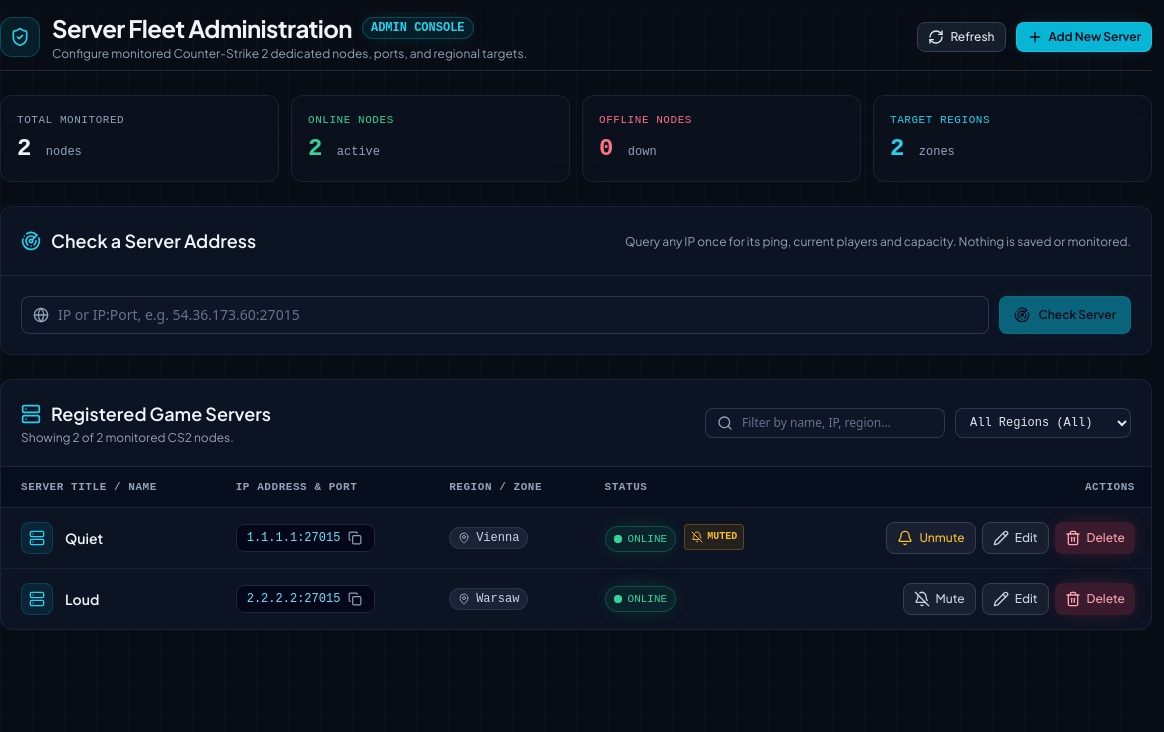
Test case: AdminDashboardView › says so when the address does not answer
Type "9.9.9.9" into the field named "Server address to check". click: (505, 314)
box: [21,296,990,334]
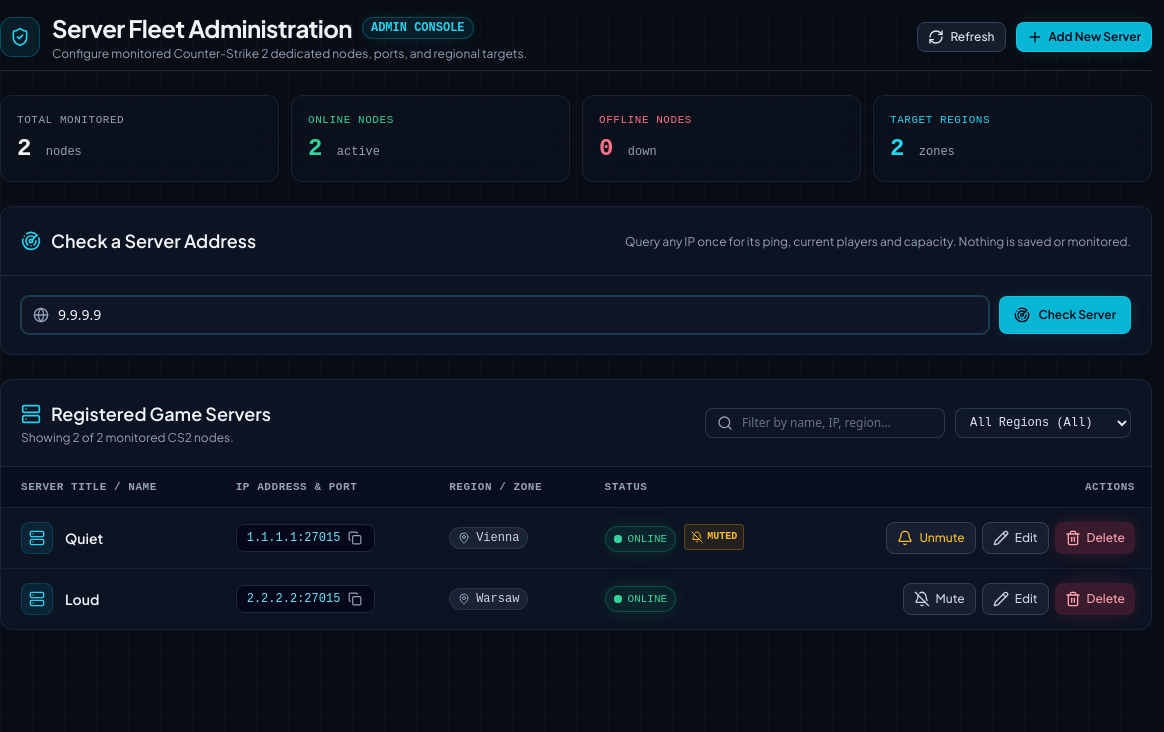
Click the button "Check Server". click: (1065, 314)
box: [1000,296,1131,334]
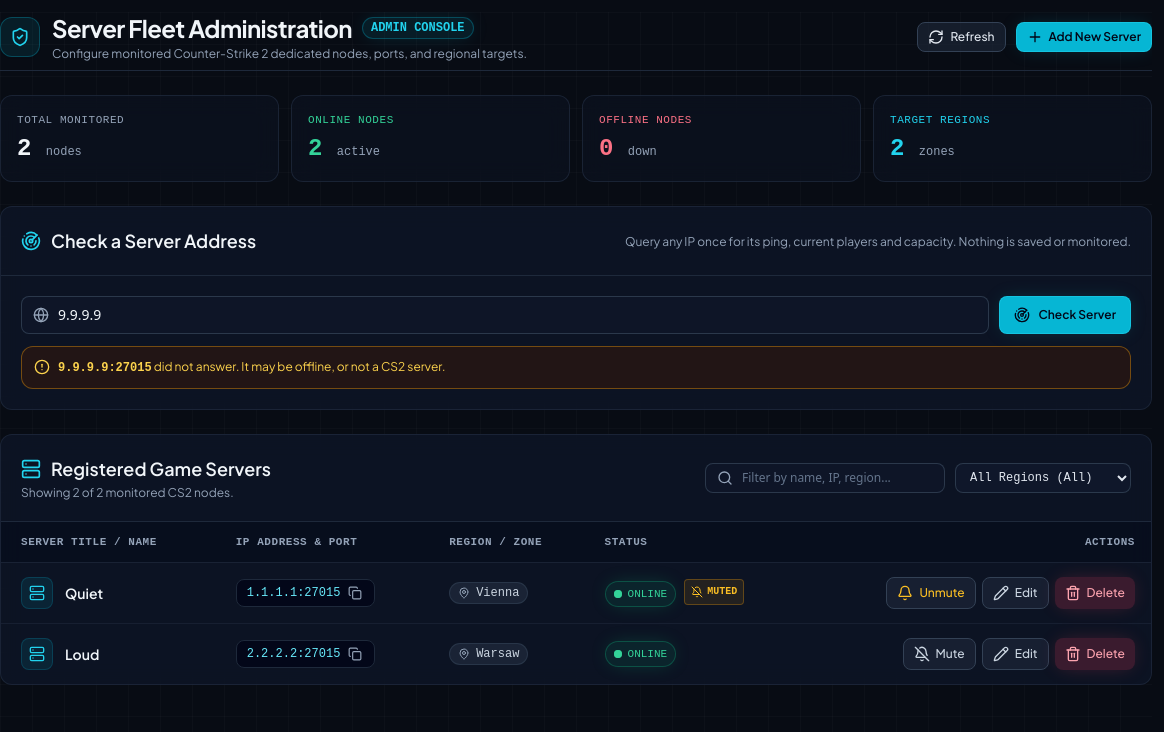
expect the text "did not answer" is shown: met, box [152,358,445,374]
